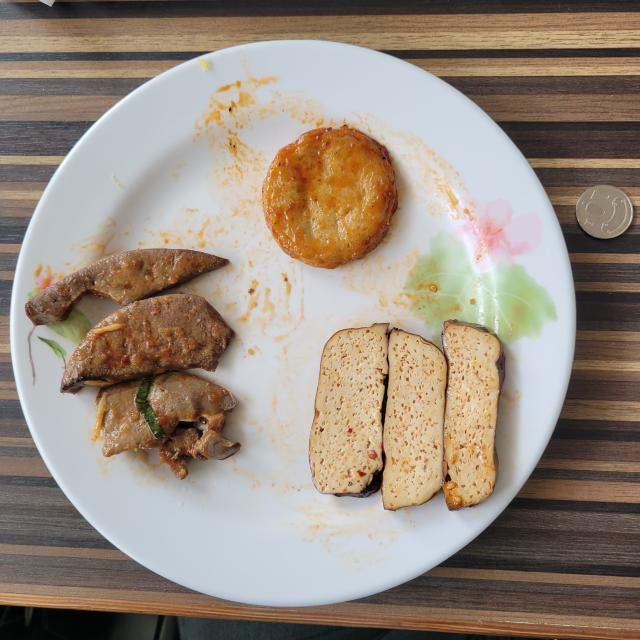coin: (576, 185, 632, 239)
firm tofu: (309, 320, 504, 510)
fish cake: (262, 125, 398, 269)
pig liver: (26, 249, 240, 479)
